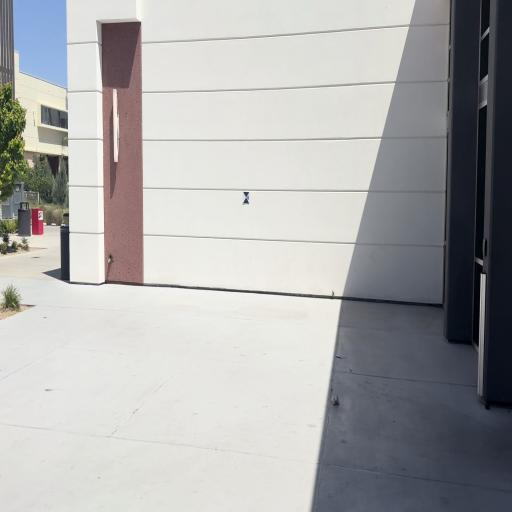target0: (243, 191, 250, 205)
